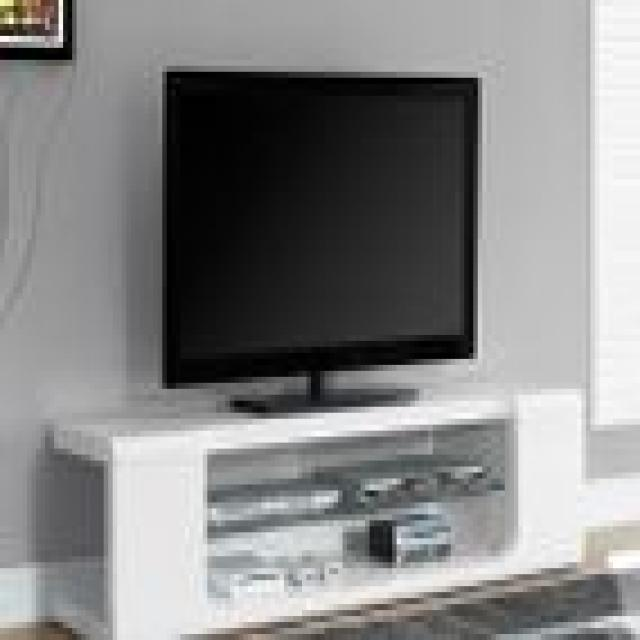others: (158, 54, 491, 383)
